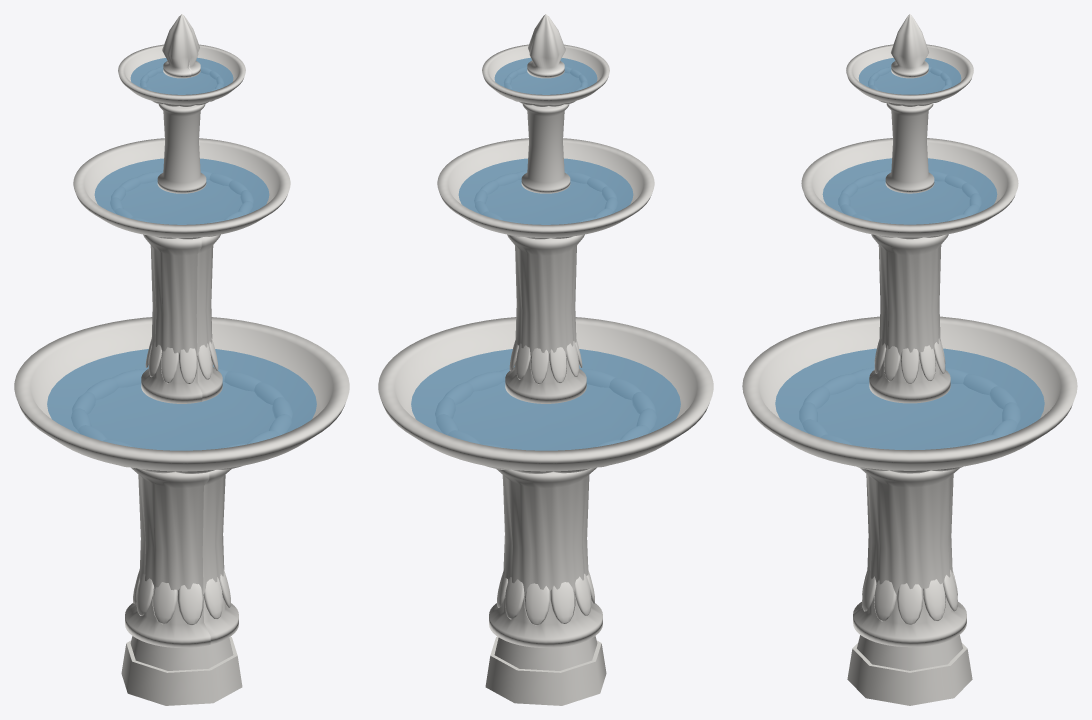
3 views of the same model, side by side, from view 1: azimuth 30°, elevation 25°; view 2: azimuth 150°, elevation 25°; view 3: azimuth 270°, elevation 25° (orthographic).
Visible parts, largest first — view 1: basin-basin-2, eau-basin-2, col-col-1, col-col-3, basin-basin-4, eau-basin-4, base-base-0, col-col-5, basin-basin-6, eau-basin-6, base-base-0-b, flame-flame-7 (+5 smaller); view 2: basin-basin-2, eau-basin-2, col-col-1, col-col-3, basin-basin-4, eau-basin-4, base-base-0, col-col-5, basin-basin-6, eau-basin-6, base-base-0-b, flame-flame-7 (+4 smaller); view 3: basin-basin-2, eau-basin-2, col-col-1, col-col-3, basin-basin-4, eau-basin-4, base-base-0, col-col-5, basin-basin-6, eau-basin-6, base-base-0-b, flame-flame-7 (+4 smaller).
Boxes of the visible parts, <box> form: basin-basin-2: <box>14,317,349,471</box>; eau-basin-2: <box>47,349,316,450</box>; col-col-1: <box>125,467,238,647</box>; col-col-3: <box>141,234,222,403</box>; basin-basin-4: <box>73,138,290,237</box>; eau-basin-4: <box>94,158,269,224</box>; base-base-0: <box>121,636,242,705</box>; col-col-5: <box>157,104,206,193</box>; basin-basin-6: <box>118,44,245,104</box>; eau-basin-6: <box>130,57,233,94</box>; base-base-0-b: <box>130,636,233,670</box>; flame-flame-7: <box>162,14,200,78</box>; basin-basin-2: <box>378,317,713,471</box>; eau-basin-2: <box>411,349,680,450</box>; col-col-1: <box>489,467,602,647</box>; col-col-3: <box>505,234,586,403</box>; basin-basin-4: <box>437,138,654,237</box>; eau-basin-4: <box>458,158,633,224</box>; base-base-0: <box>485,636,606,705</box>; col-col-5: <box>521,104,570,193</box>; basin-basin-6: <box>482,44,609,104</box>; eau-basin-6: <box>494,57,597,94</box>; base-base-0-b: <box>494,636,597,670</box>; flame-flame-7: <box>527,14,565,78</box>; basin-basin-2: <box>742,316,1077,470</box>; eau-basin-2: <box>775,348,1044,449</box>; col-col-1: <box>853,468,966,647</box>; col-col-3: <box>869,234,950,403</box>; basin-basin-4: <box>801,138,1018,237</box>; eau-basin-4: <box>822,158,997,224</box>; base-base-0: <box>847,643,972,705</box>; col-col-5: <box>885,103,934,193</box>; basin-basin-6: <box>846,44,973,104</box>; eau-basin-6: <box>858,58,961,94</box>; base-base-0-b: <box>857,635,962,670</box>; flame-flame-7: <box>891,14,928,78</box>.
Size of the model in its own units: 1.05 by 2.3 by 1.05.
